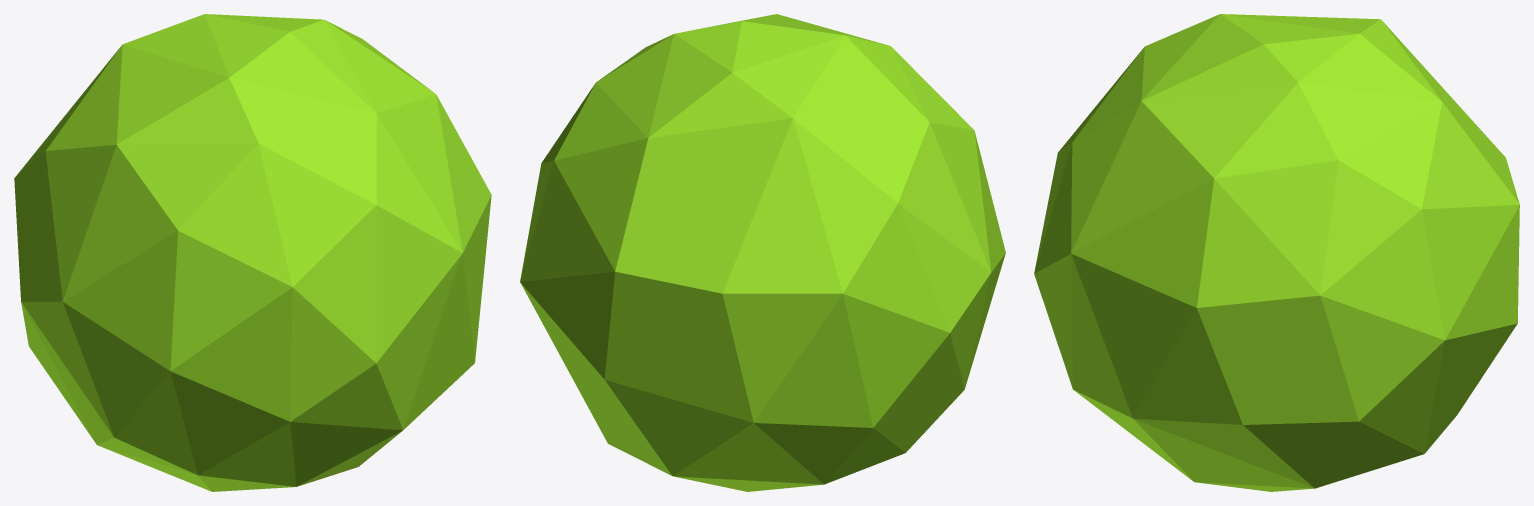
The model's file is ball2.fbx.
3 views of the same model, side by side, from view 1: azimuth 30°, elevation 25°; view 2: azimuth 150°, elevation 25°; view 3: azimuth 270°, elevation 25° (orthographic).
Visible parts, largest first — view 1: Sphere; view 2: Sphere; view 3: Sphere.
Boxes of the visible parts, x1=… form: Sphere: x1=14, y1=14, x2=491, y2=491; Sphere: x1=520, y1=14, x2=1005, y2=491; Sphere: x1=1034, y1=14, x2=1519, y2=491.
Bounding box in the file's own units: 197 × 200 × 200.
